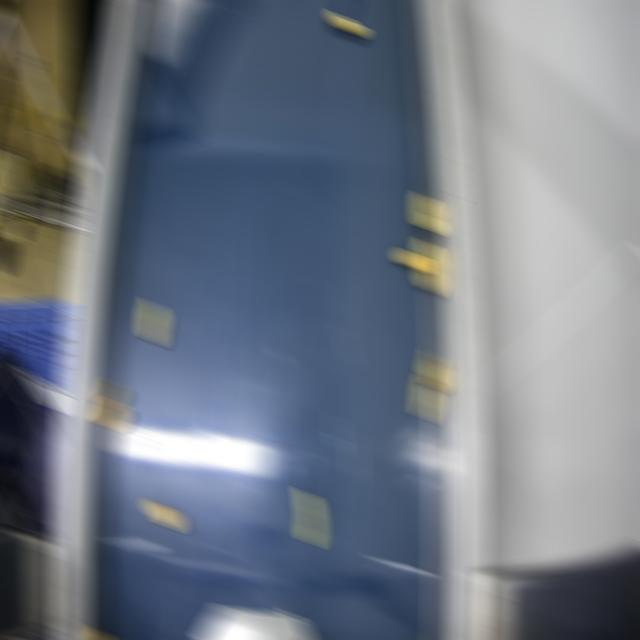Baby Potato: (299, 490, 320, 545), (418, 239, 439, 292), (142, 299, 163, 344), (147, 502, 180, 529), (416, 194, 439, 231), (97, 399, 124, 428), (416, 378, 435, 419), (422, 353, 443, 388), (332, 13, 363, 34), (98, 380, 121, 407), (398, 252, 425, 269), (92, 627, 109, 639)
